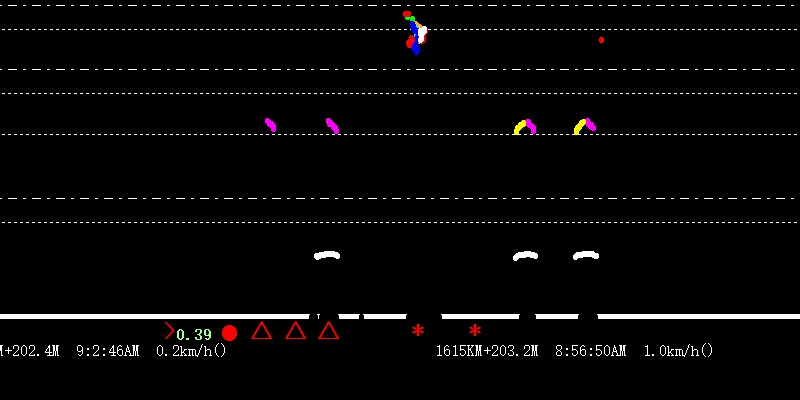circle: (220, 322, 237, 342)
face_2: (416, 21, 427, 56)
face_down: (402, 27, 414, 47)
first: (399, 1, 413, 17)
star: (466, 320, 482, 337), (410, 322, 426, 337)
